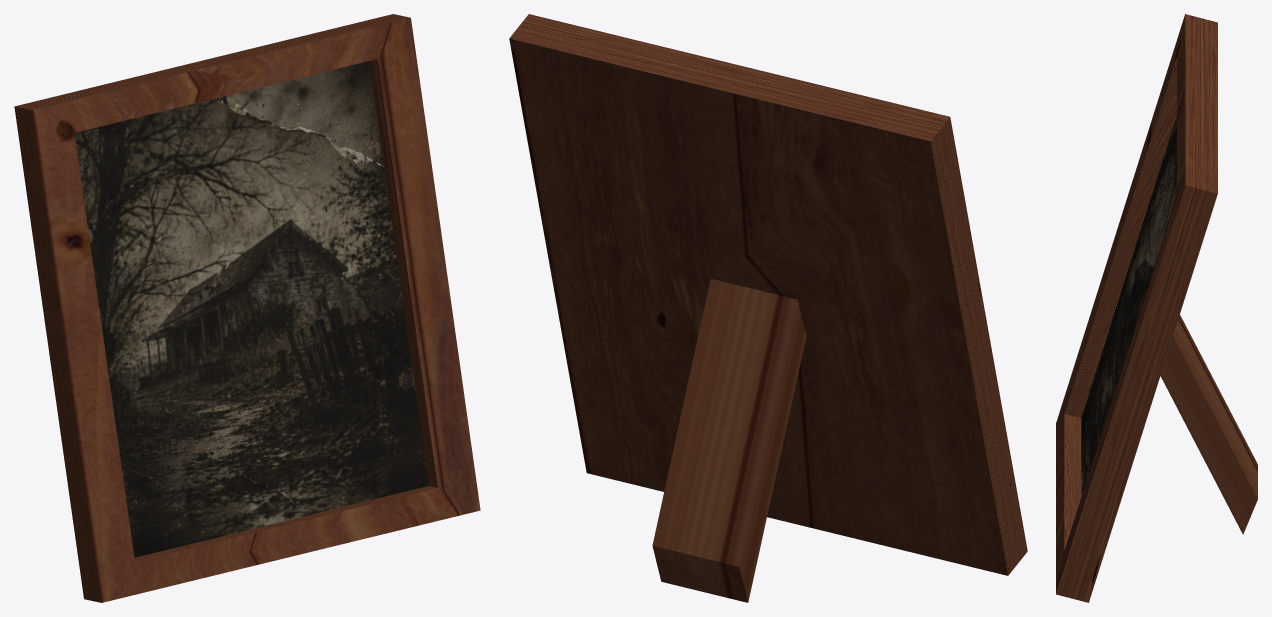
Rendered from item4.fbx.
3 renders of one model, left to right at view 1: azimuth 30°, elevation 25°; view 2: azimuth 150°, elevation 25°; view 3: azimuth 270°, elevation 25°, orthographic. The views are drawn at different scales.
Visible parts, largest first — view 1: Cube.003; view 2: Cube.003; view 3: Cube.003.
Boxes of the visible parts, x1=… form: Cube.003: x1=14, y1=14, x2=480, y2=602; Cube.003: x1=509, y1=14, x2=1027, y2=602; Cube.003: x1=1056, y1=14, x2=1257, y2=602.
Bounding box in the file's own units: 97.05 × 110 × 48.31.
Materials: 2 (2 with a texture image).
